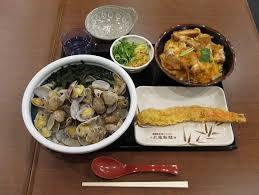asari: (18, 51, 147, 163)
